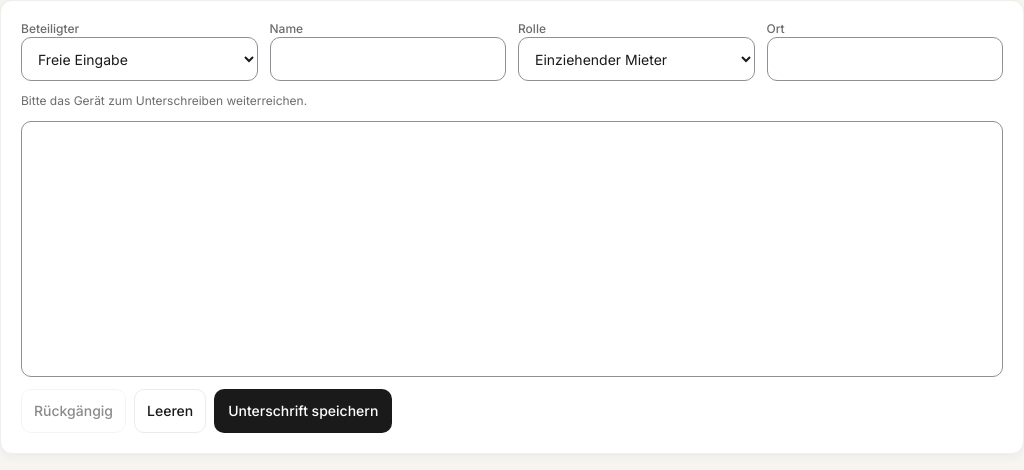
Scenario: SignaturePad › offers Rückgängig for the last stroke and Leeren for all, and refuses to save an empty pad
expect the button "Rückgängig" is disabled: met, box [21,389,126,433]
Click the button "Unterschrift speichern": (303, 411) [214,389,392,433]
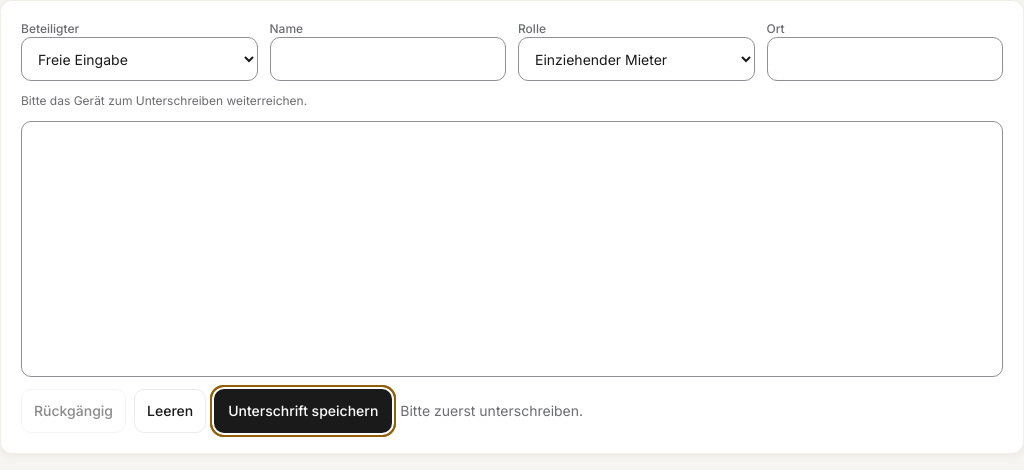
expect the text "Bitte zuerst unterschreiben." is shown: met, box [400,401,583,421]
Press the mouse on the drawing named "Unterschriftsfeld": (512, 249) [21,121,1003,377]
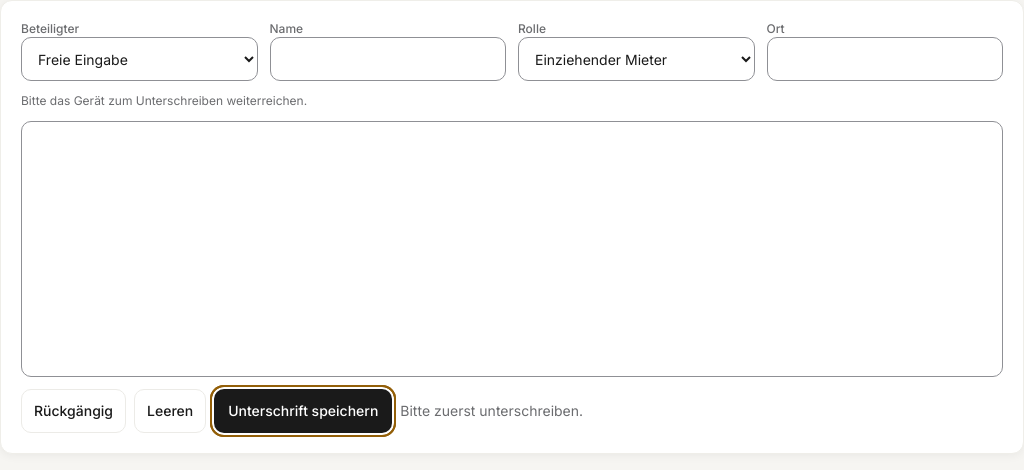
Press the mouse on the drawing named "Unterschriftsfeld": (512, 249) [21,121,1003,377]
Click the button "Rückgängig": (74, 411) [21,389,126,433]
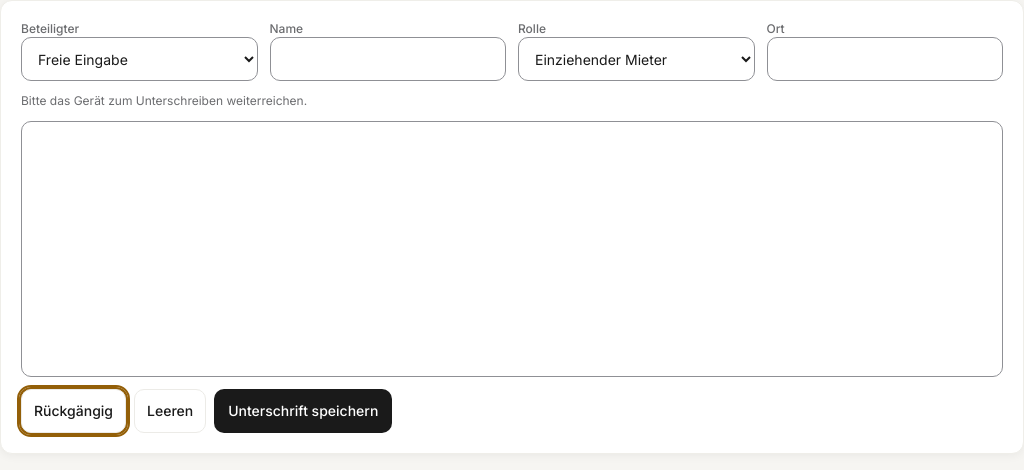
Click the button "Leeren": (170, 411) [134,389,206,433]
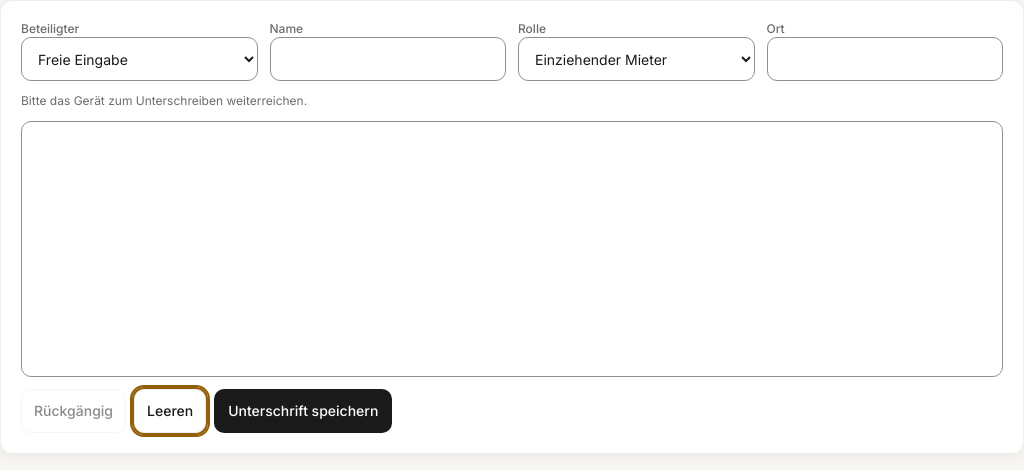
expect the button "Rückgängig" is disabled: met, box [21,389,126,433]
